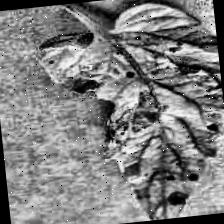disease: (34, 0, 224, 224)
